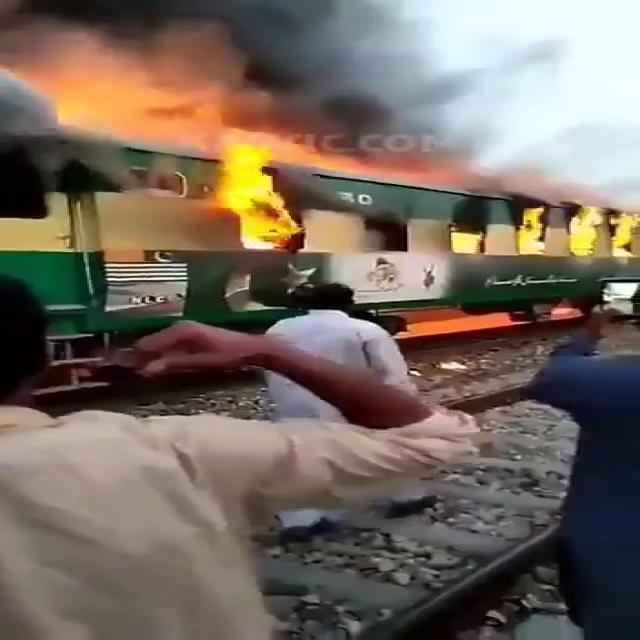Fire: (220, 145, 304, 253), (569, 208, 613, 259), (515, 205, 547, 256), (451, 214, 487, 257), (611, 214, 640, 251)
Smoke: (0, 19, 340, 158), (204, 0, 476, 148)
